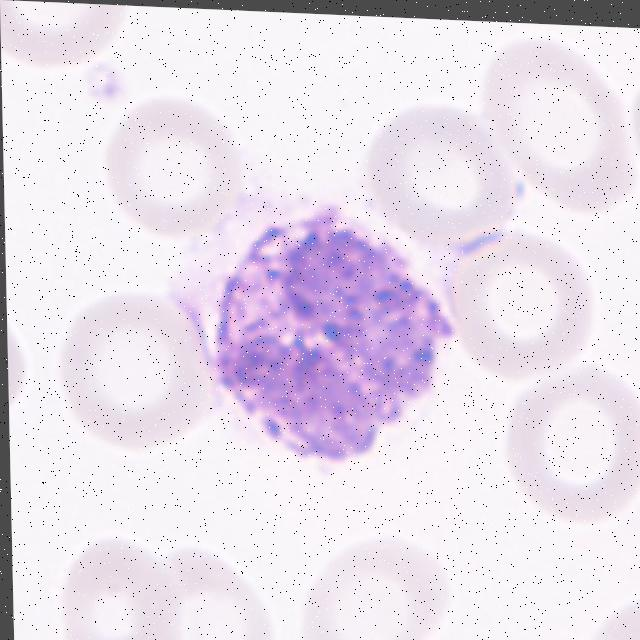basophil: (220, 208, 449, 472)
platelets: (77, 56, 129, 119)
rbc: (436, 229, 612, 385), (491, 36, 640, 206), (51, 288, 210, 446), (99, 85, 244, 248), (354, 90, 507, 241), (501, 349, 640, 513), (294, 524, 459, 640), (168, 511, 292, 640), (65, 527, 181, 640), (0, 0, 129, 71), (586, 569, 640, 640), (7, 305, 31, 411), (543, 627, 638, 640)
